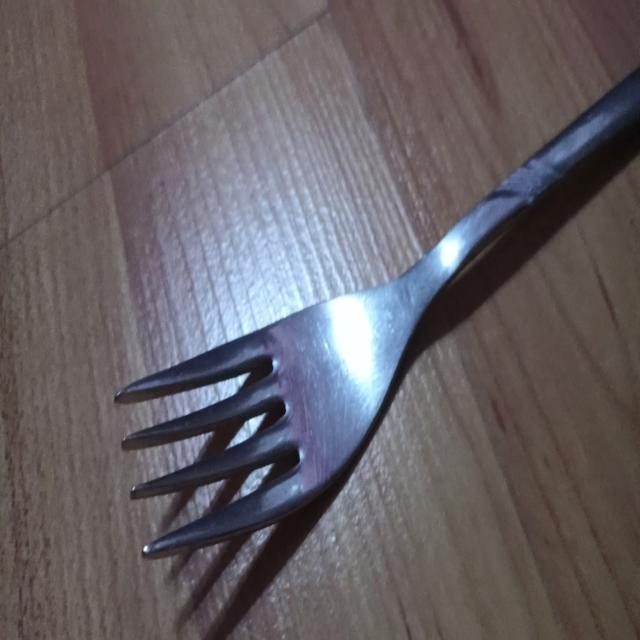spoon: (115, 66, 640, 560)
